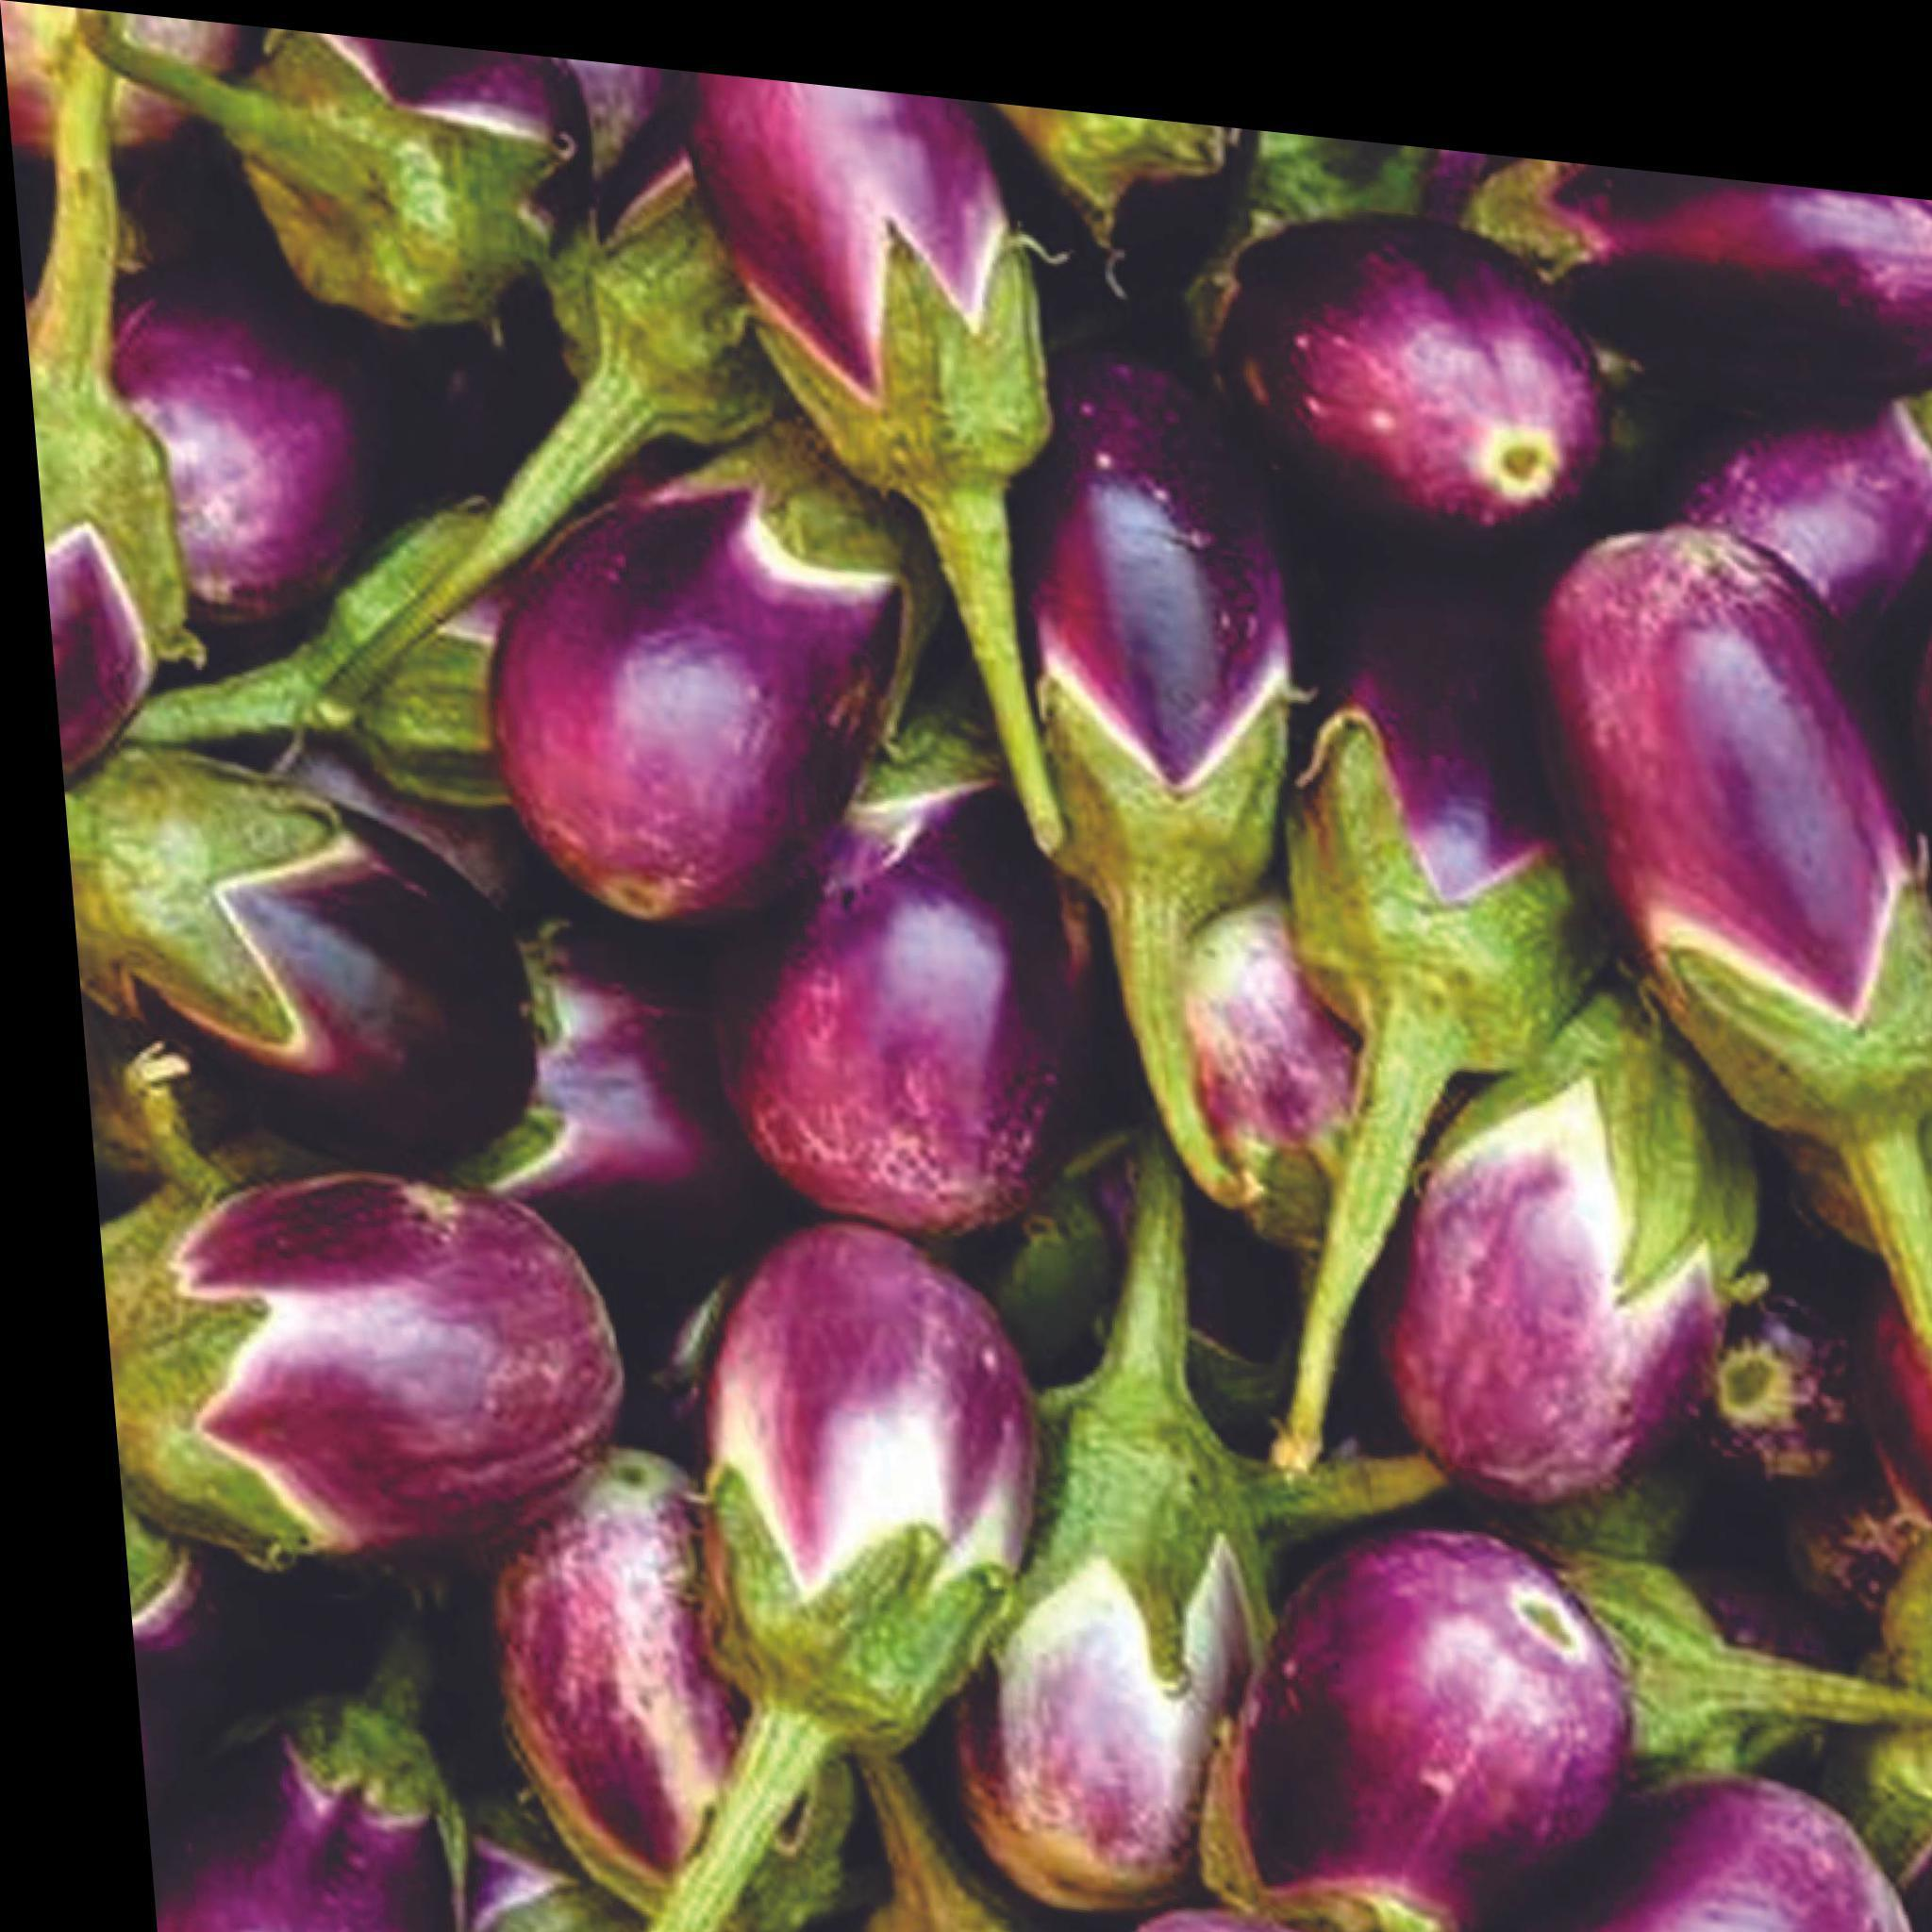eggplant: (2, 16, 1930, 1930)
